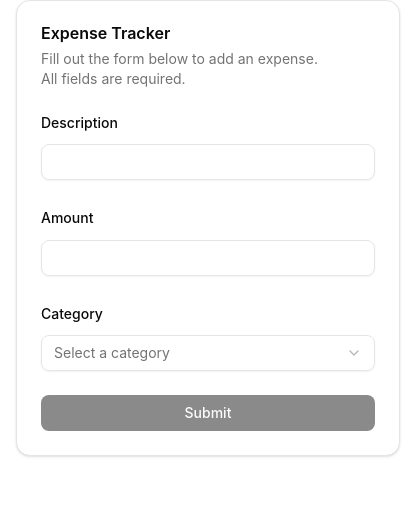
Test case: ExpenseTrackerForm › form display and validation › shows error when amount has a negative value
Type "-10" into the number field labelled "Amount".
click(208, 258); type("-10")  # box [41,240,375,276]
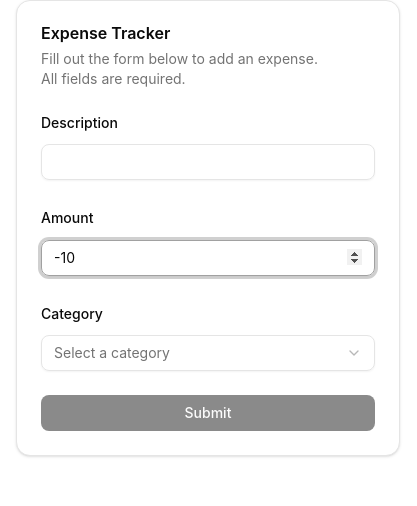
Press Tab
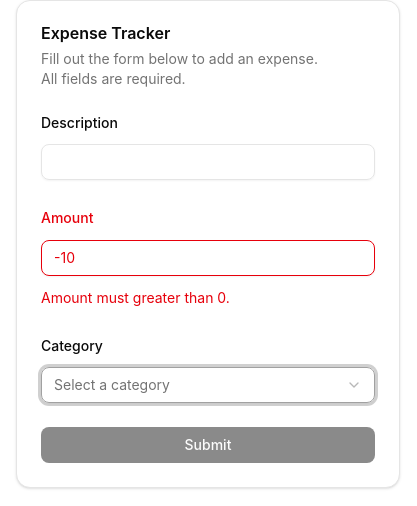
Check: the text "Amount must greater than 0." is shown, box [41,288,230,306]
